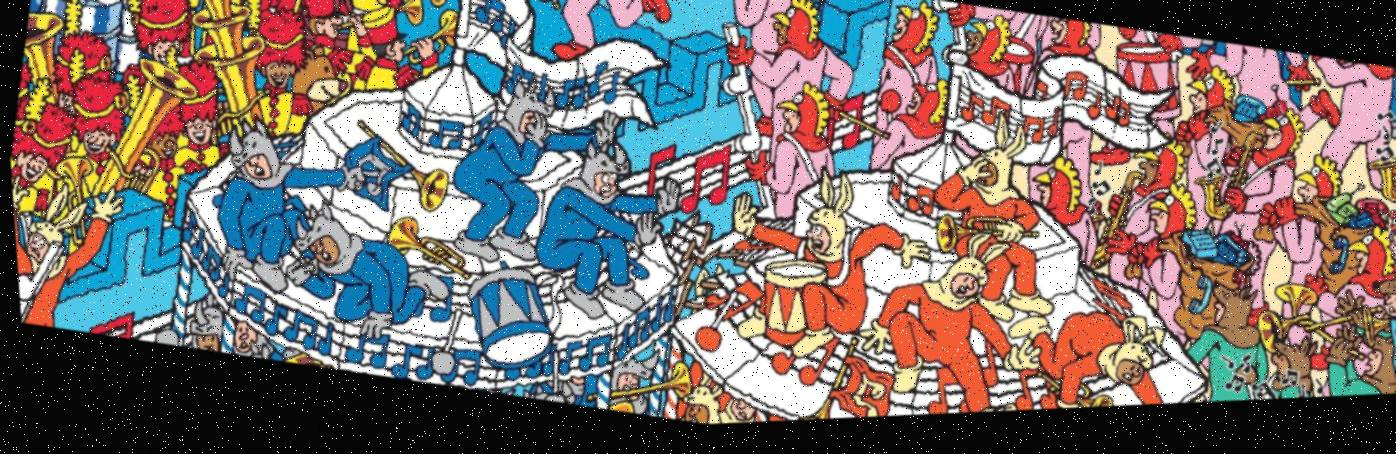waldo: (1378, 221, 1396, 271)
